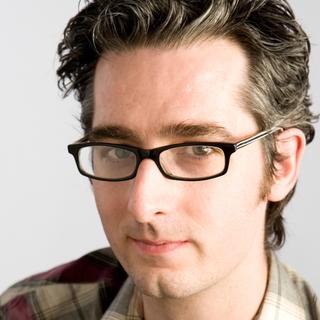eye: (87, 138, 140, 172), (177, 134, 227, 167)
